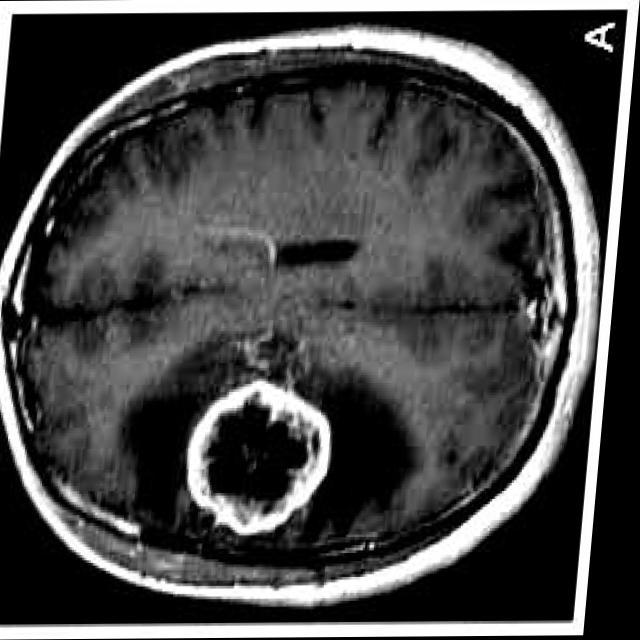Tumor: (195, 383, 339, 535)
